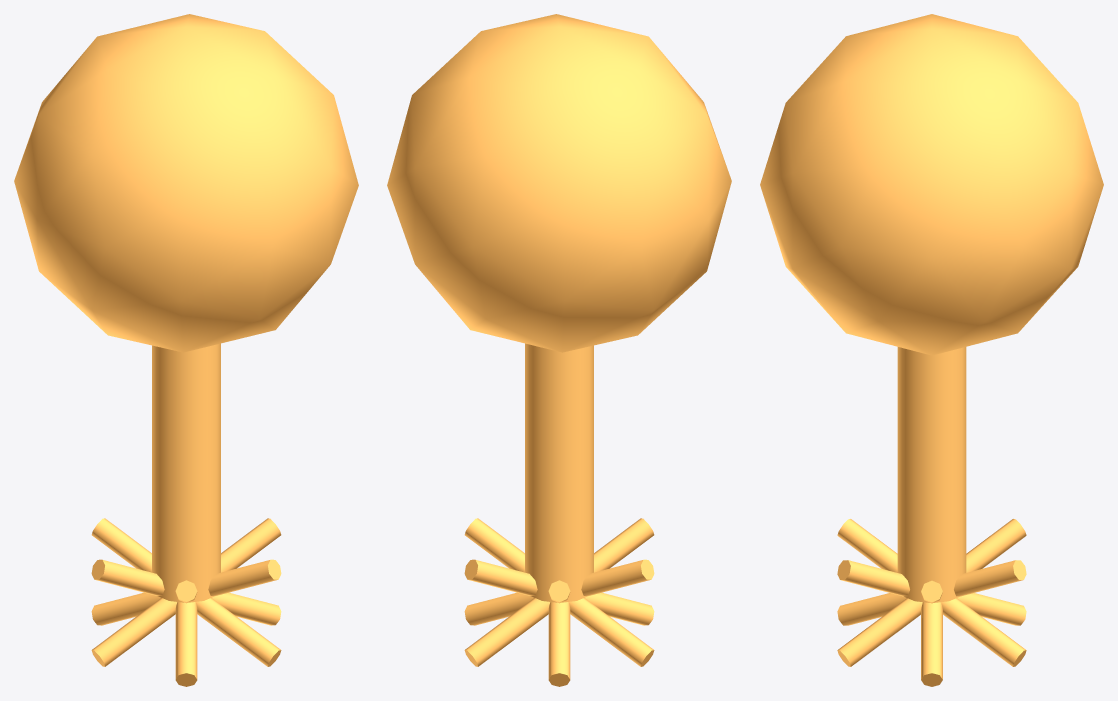
The model's file is phage-particle.glb.
The picture shows the model from 3 angles, left to right: view 1: azimuth 30°, elevation 25°; view 2: azimuth 150°, elevation 25°; view 3: azimuth 270°, elevation 25°; orthographic projection.
Visible parts, largest first — view 1: icosahedral_phage_head, contractile_tail, phage_tail_fiber_3, phage_tail_fiber_5, phage_tail_fiber_0, phage_tail_fiber_2, phage_tail_fiber_4; view 2: icosahedral_phage_head, contractile_tail, phage_tail_fiber_1, phage_tail_fiber_3, phage_tail_fiber_0, phage_tail_fiber_4, phage_tail_fiber_2; view 3: icosahedral_phage_head, contractile_tail, phage_tail_fiber_1, phage_tail_fiber_5, phage_tail_fiber_2, phage_tail_fiber_4, phage_tail_fiber_0.
Boxes of the visible parts, x1,y1,x2,y2 form: icosahedral_phage_head: (14,14,358,352); contractile_tail: (152,343,220,602); phage_tail_fiber_3: (91,518,281,666); phage_tail_fiber_5: (91,518,281,666); phage_tail_fiber_0: (91,559,281,625); phage_tail_fiber_2: (91,559,281,625); phage_tail_fiber_4: (175,602,197,686); icosahedral_phage_head: (387,14,731,352); contractile_tail: (525,343,593,602); phage_tail_fiber_1: (464,518,654,666); phage_tail_fiber_3: (464,518,654,666); phage_tail_fiber_0: (464,559,654,625); phage_tail_fiber_4: (464,559,654,625); phage_tail_fiber_2: (548,602,570,686); icosahedral_phage_head: (760,14,1103,355); contractile_tail: (897,347,966,602); phage_tail_fiber_1: (837,519,1026,666); phage_tail_fiber_5: (837,519,1026,666); phage_tail_fiber_2: (837,560,1026,625); phage_tail_fiber_4: (837,560,1026,625); phage_tail_fiber_0: (921,602,942,686).
Bounding box in the file's own units: 1.1 × 2.18 × 1.1.
